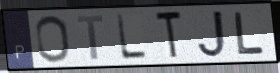J: (196, 9, 229, 59)
L: (114, 12, 149, 61), (232, 10, 267, 56)
O: (34, 14, 73, 64)
T: (154, 9, 184, 62), (75, 14, 106, 62)
